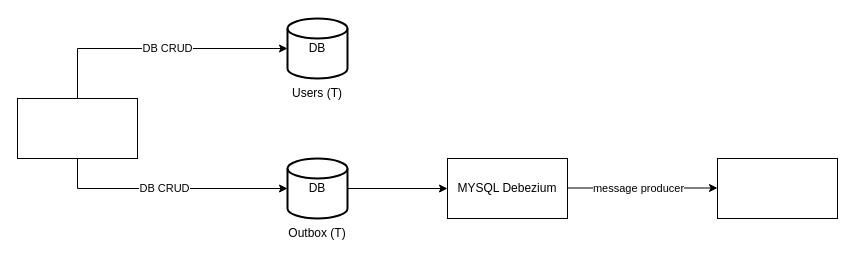
The diagram is 855 pixels wide and 265 high, and some of its shapes have lost their labels. Here are the shapes that lost their labels. From the top down, the centre of each, then its label:
the point at 77,128: Application
the point at 777,188: Kafka
